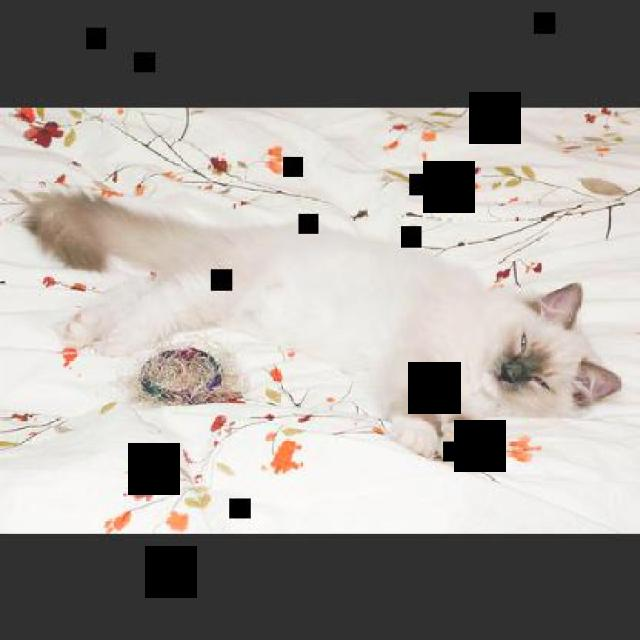unauthorized: (9, 185, 622, 469)
